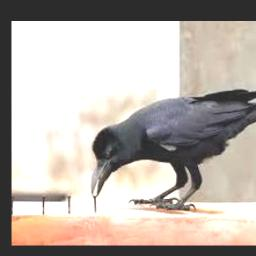Crow: (92, 82, 256, 211)
